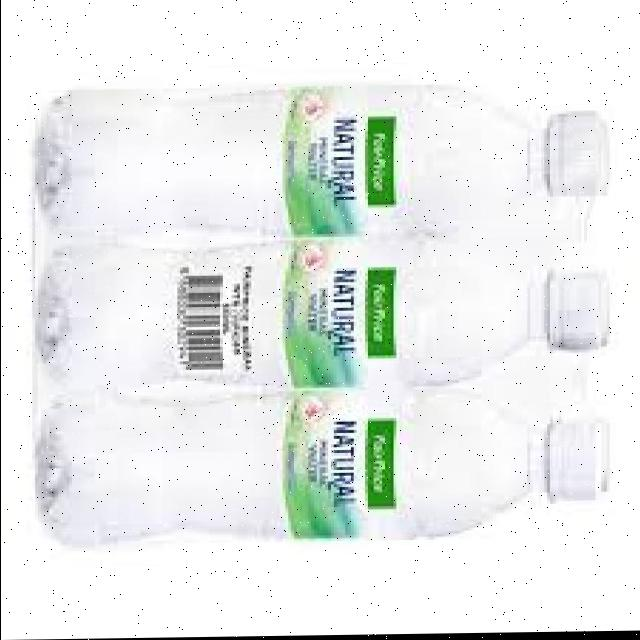bottle: (29, 56, 621, 600)
